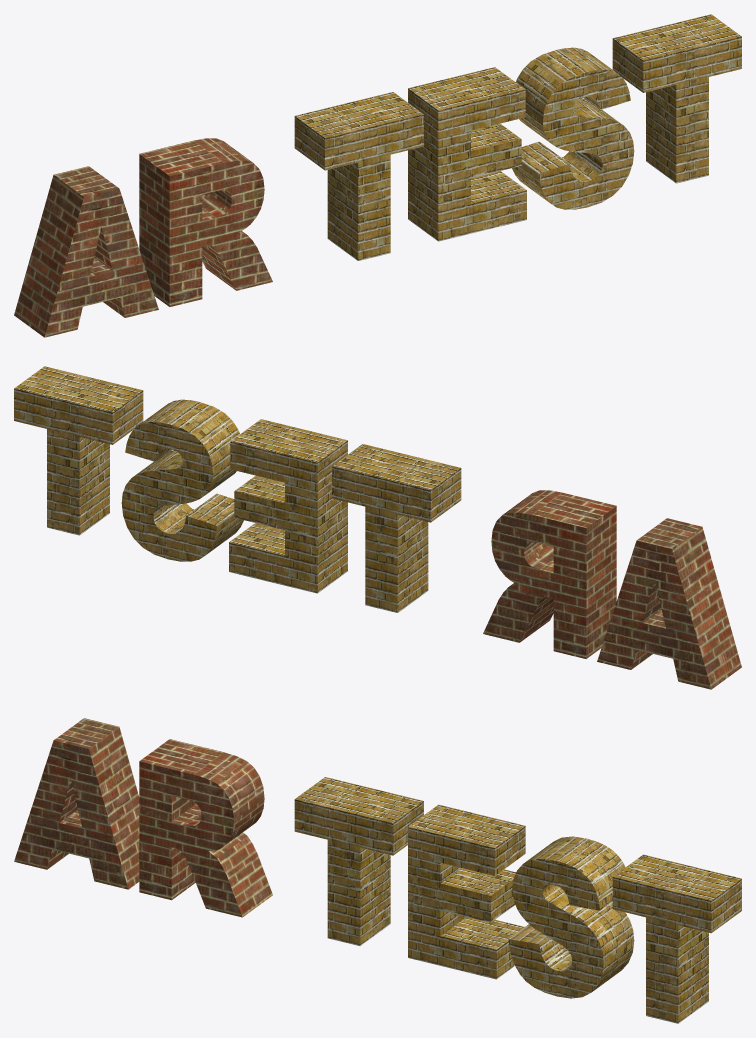
Rendered from text_animation.gltf.
The picture shows the model from 3 angles, top to bottom: view 1: azimuth 30°, elevation 25°; view 2: azimuth 150°, elevation 25°; view 3: azimuth 330°, elevation 25°; orthographic projection.
Visible parts, largest first — view 1: name_obj.002, name_obj.004, name_obj.001, name_obj.005, name_obj.003, name_obj.006; view 2: name_obj.002, name_obj.004, name_obj.001, name_obj.005, name_obj.003, name_obj.006; view 3: name_obj.002, name_obj.004, name_obj.005, name_obj.001, name_obj.006, name_obj.003.
Part boxes in pixels (<box>): name_obj.002: <box>139,138,272,306</box>; name_obj.004: <box>408,67,526,241</box>; name_obj.001: <box>14,166,158,337</box>; name_obj.005: <box>512,47,634,209</box>; name_obj.003: <box>294,92,423,260</box>; name_obj.006: <box>612,14,741,183</box>; name_obj.002: <box>483,490,616,658</box>; name_obj.004: <box>229,419,347,593</box>; name_obj.001: <box>597,518,741,689</box>; name_obj.005: <box>121,399,243,561</box>; name_obj.003: <box>332,444,461,612</box>; name_obj.006: <box>14,366,143,535</box>; name_obj.002: <box>139,739,272,917</box>; name_obj.004: <box>408,804,525,979</box>; name_obj.005: <box>508,836,634,998</box>; name_obj.001: <box>14,718,139,889</box>; name_obj.006: <box>612,854,741,1023</box>; name_obj.003: <box>294,777,423,945</box>.
Bounding box in the file's own units: 6.47 × 1.2 × 0.4906.
Materials: 3 (2 with a texture image).
